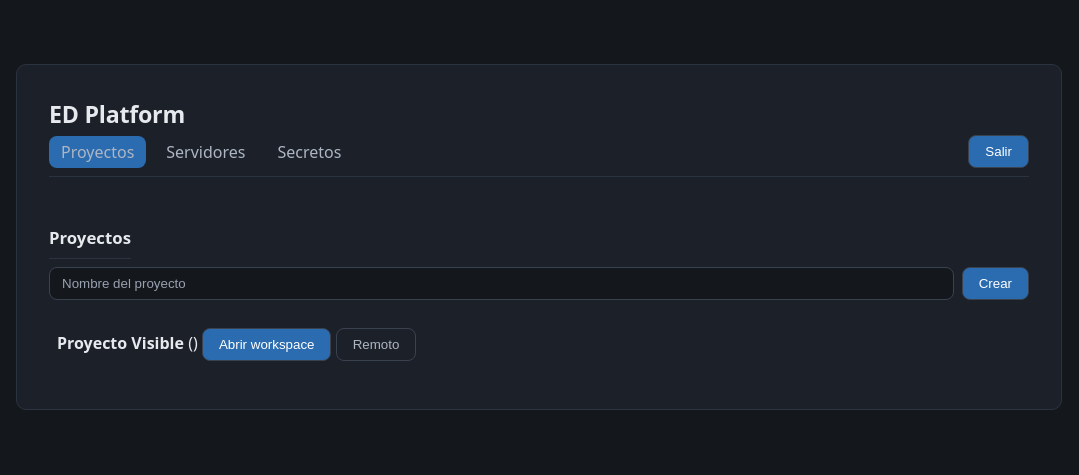
Scenario: App › navegación del shell (F4-6b) › navega a Secretos y muestra su panel
Expected: the text "Proyecto Visible" is shown, top-left (57, 332), bottom-right (184, 354)
Click the link "Secretos": (309, 152) top-left (278, 141), bottom-right (341, 163)
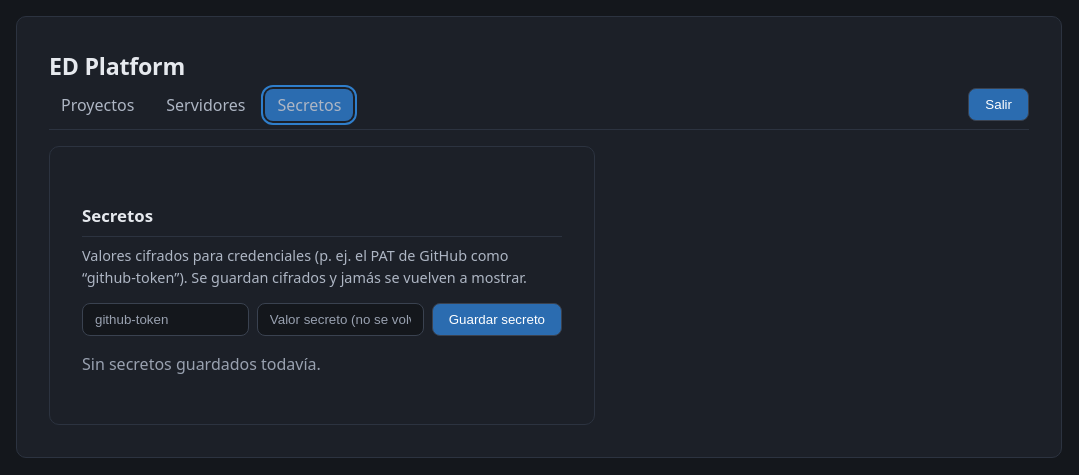
Now the element with test id "panel-secretos" is shown, box top-left (49, 146), bottom-right (595, 425)
Now the text "Proyecto Visible" is gone
